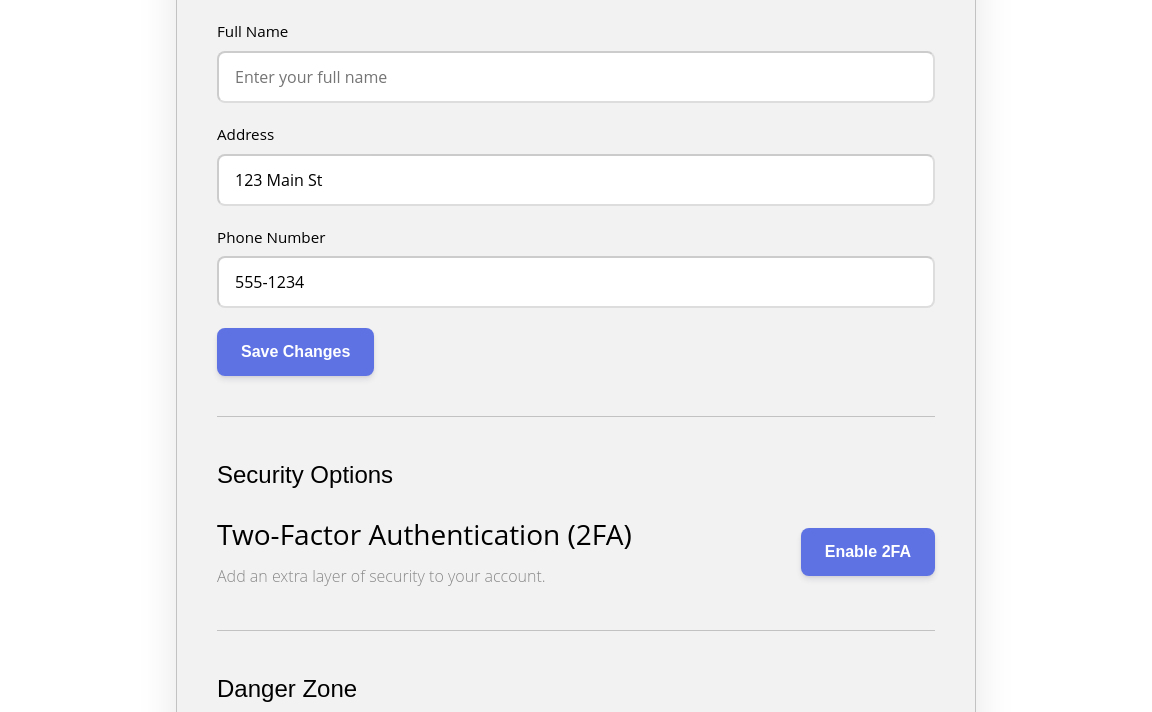
Test case: Account Component › handles API error on profile update
(page scrolled)
Click the button "Save Changes": (296, 352) [217, 328, 374, 376]
(page scrolled)
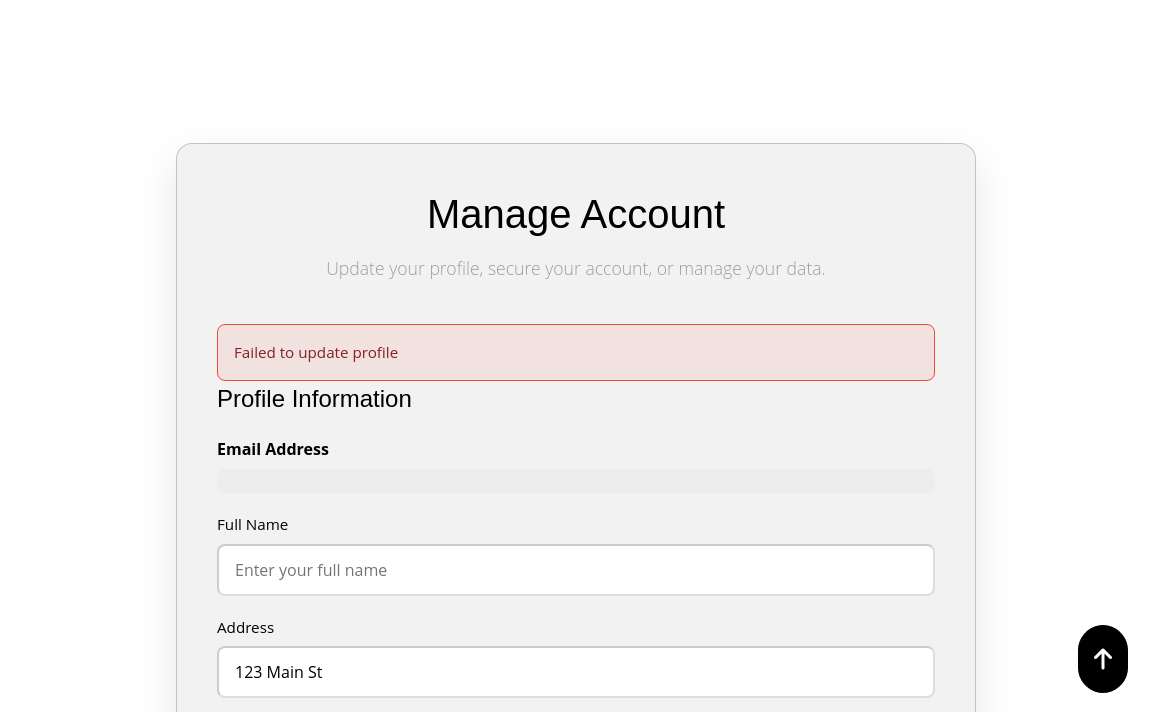
Expected: the text "Failed to update profile" is shown, [217, 324, 935, 381]
